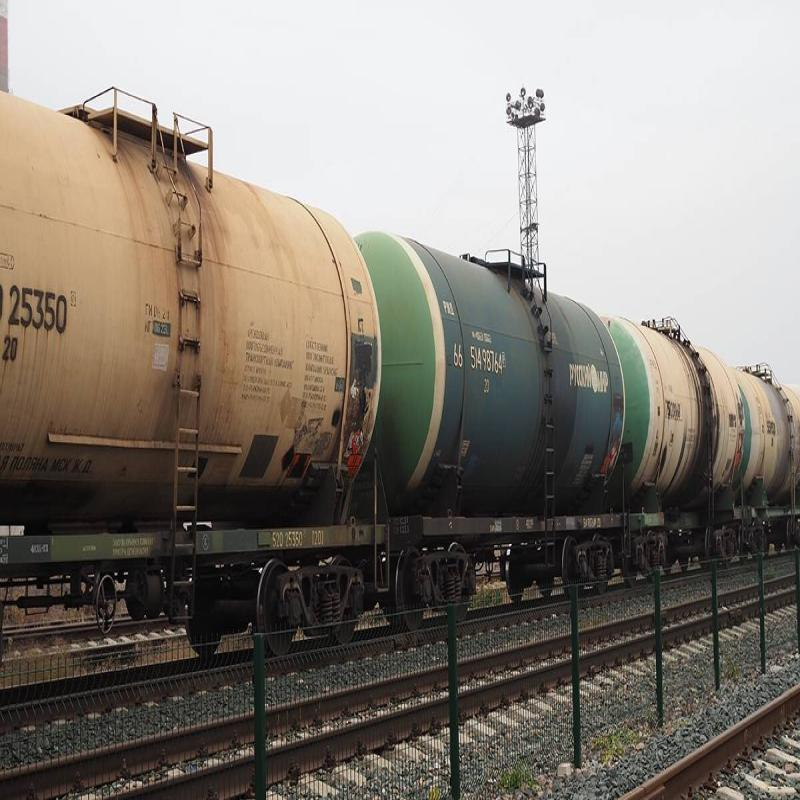train: (1, 124, 393, 698), (314, 268, 654, 635), (630, 300, 797, 588)
